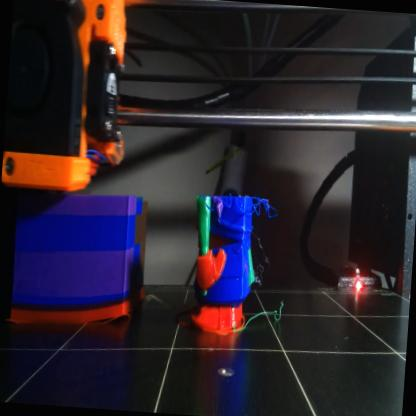fail: (247, 297, 287, 332), (224, 196, 281, 220), (255, 265, 267, 289)
